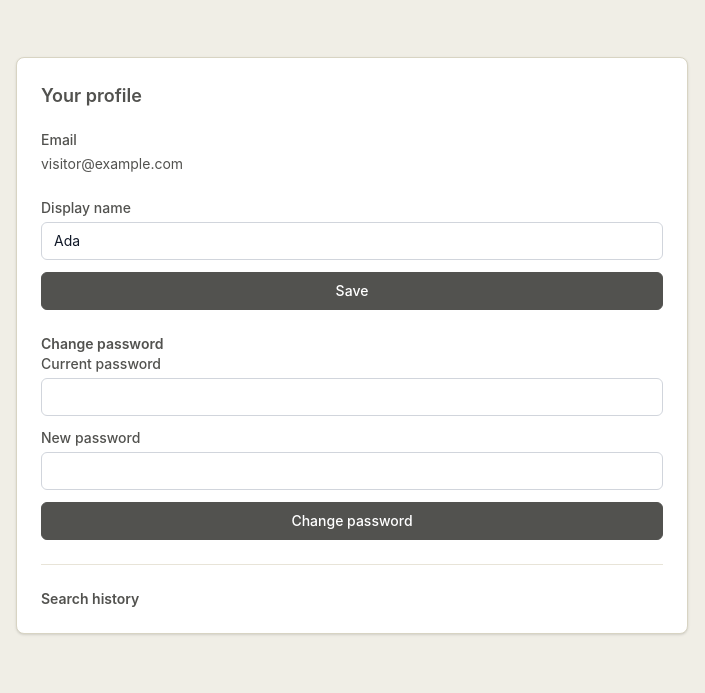
Scenario: ProfilePage › shows the server's message when the current password is wrong
Expected: the field showing "Ada" is shown, [41, 222, 663, 260]
In the password field labelled "Current password": coordinates (352, 396) [41, 378, 663, 416], type "wrong"
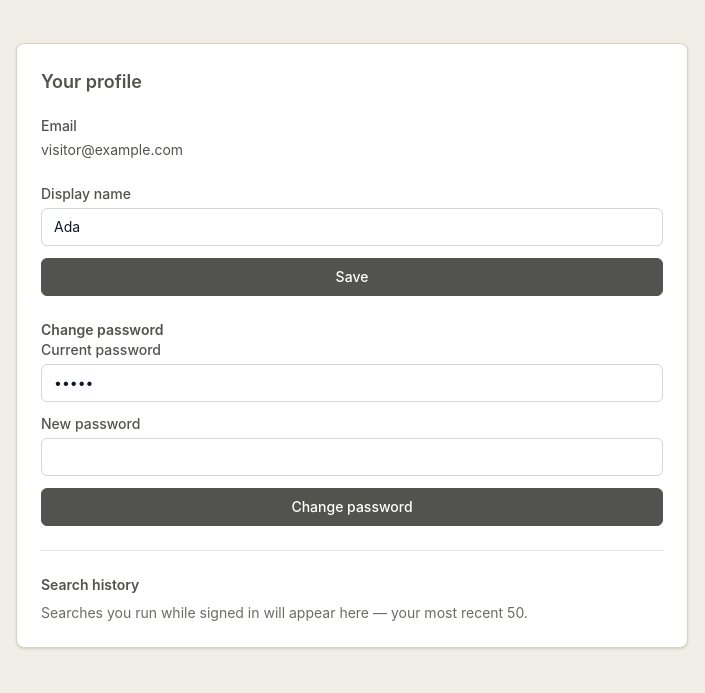
In the password field labelled "New password": coordinates (352, 456) [41, 438, 663, 476], type "new-pw"
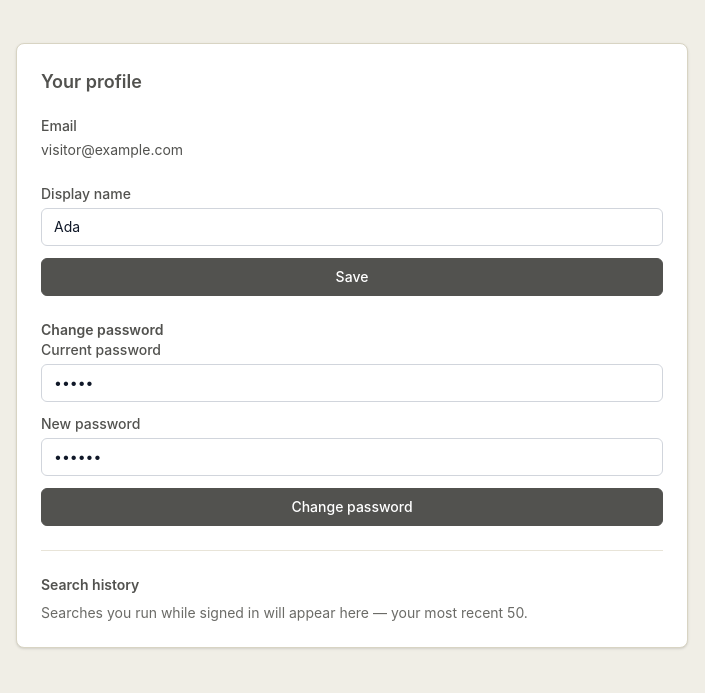
Click the button "Change password": coordinates (352, 506) [41, 488, 663, 526]
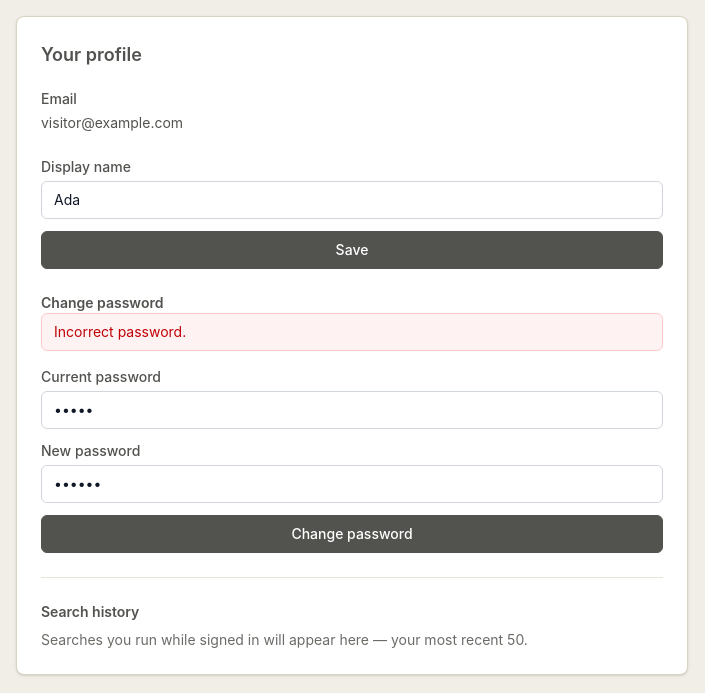
Expected: the message reads "Incorrect password.", [54, 322, 186, 340]
